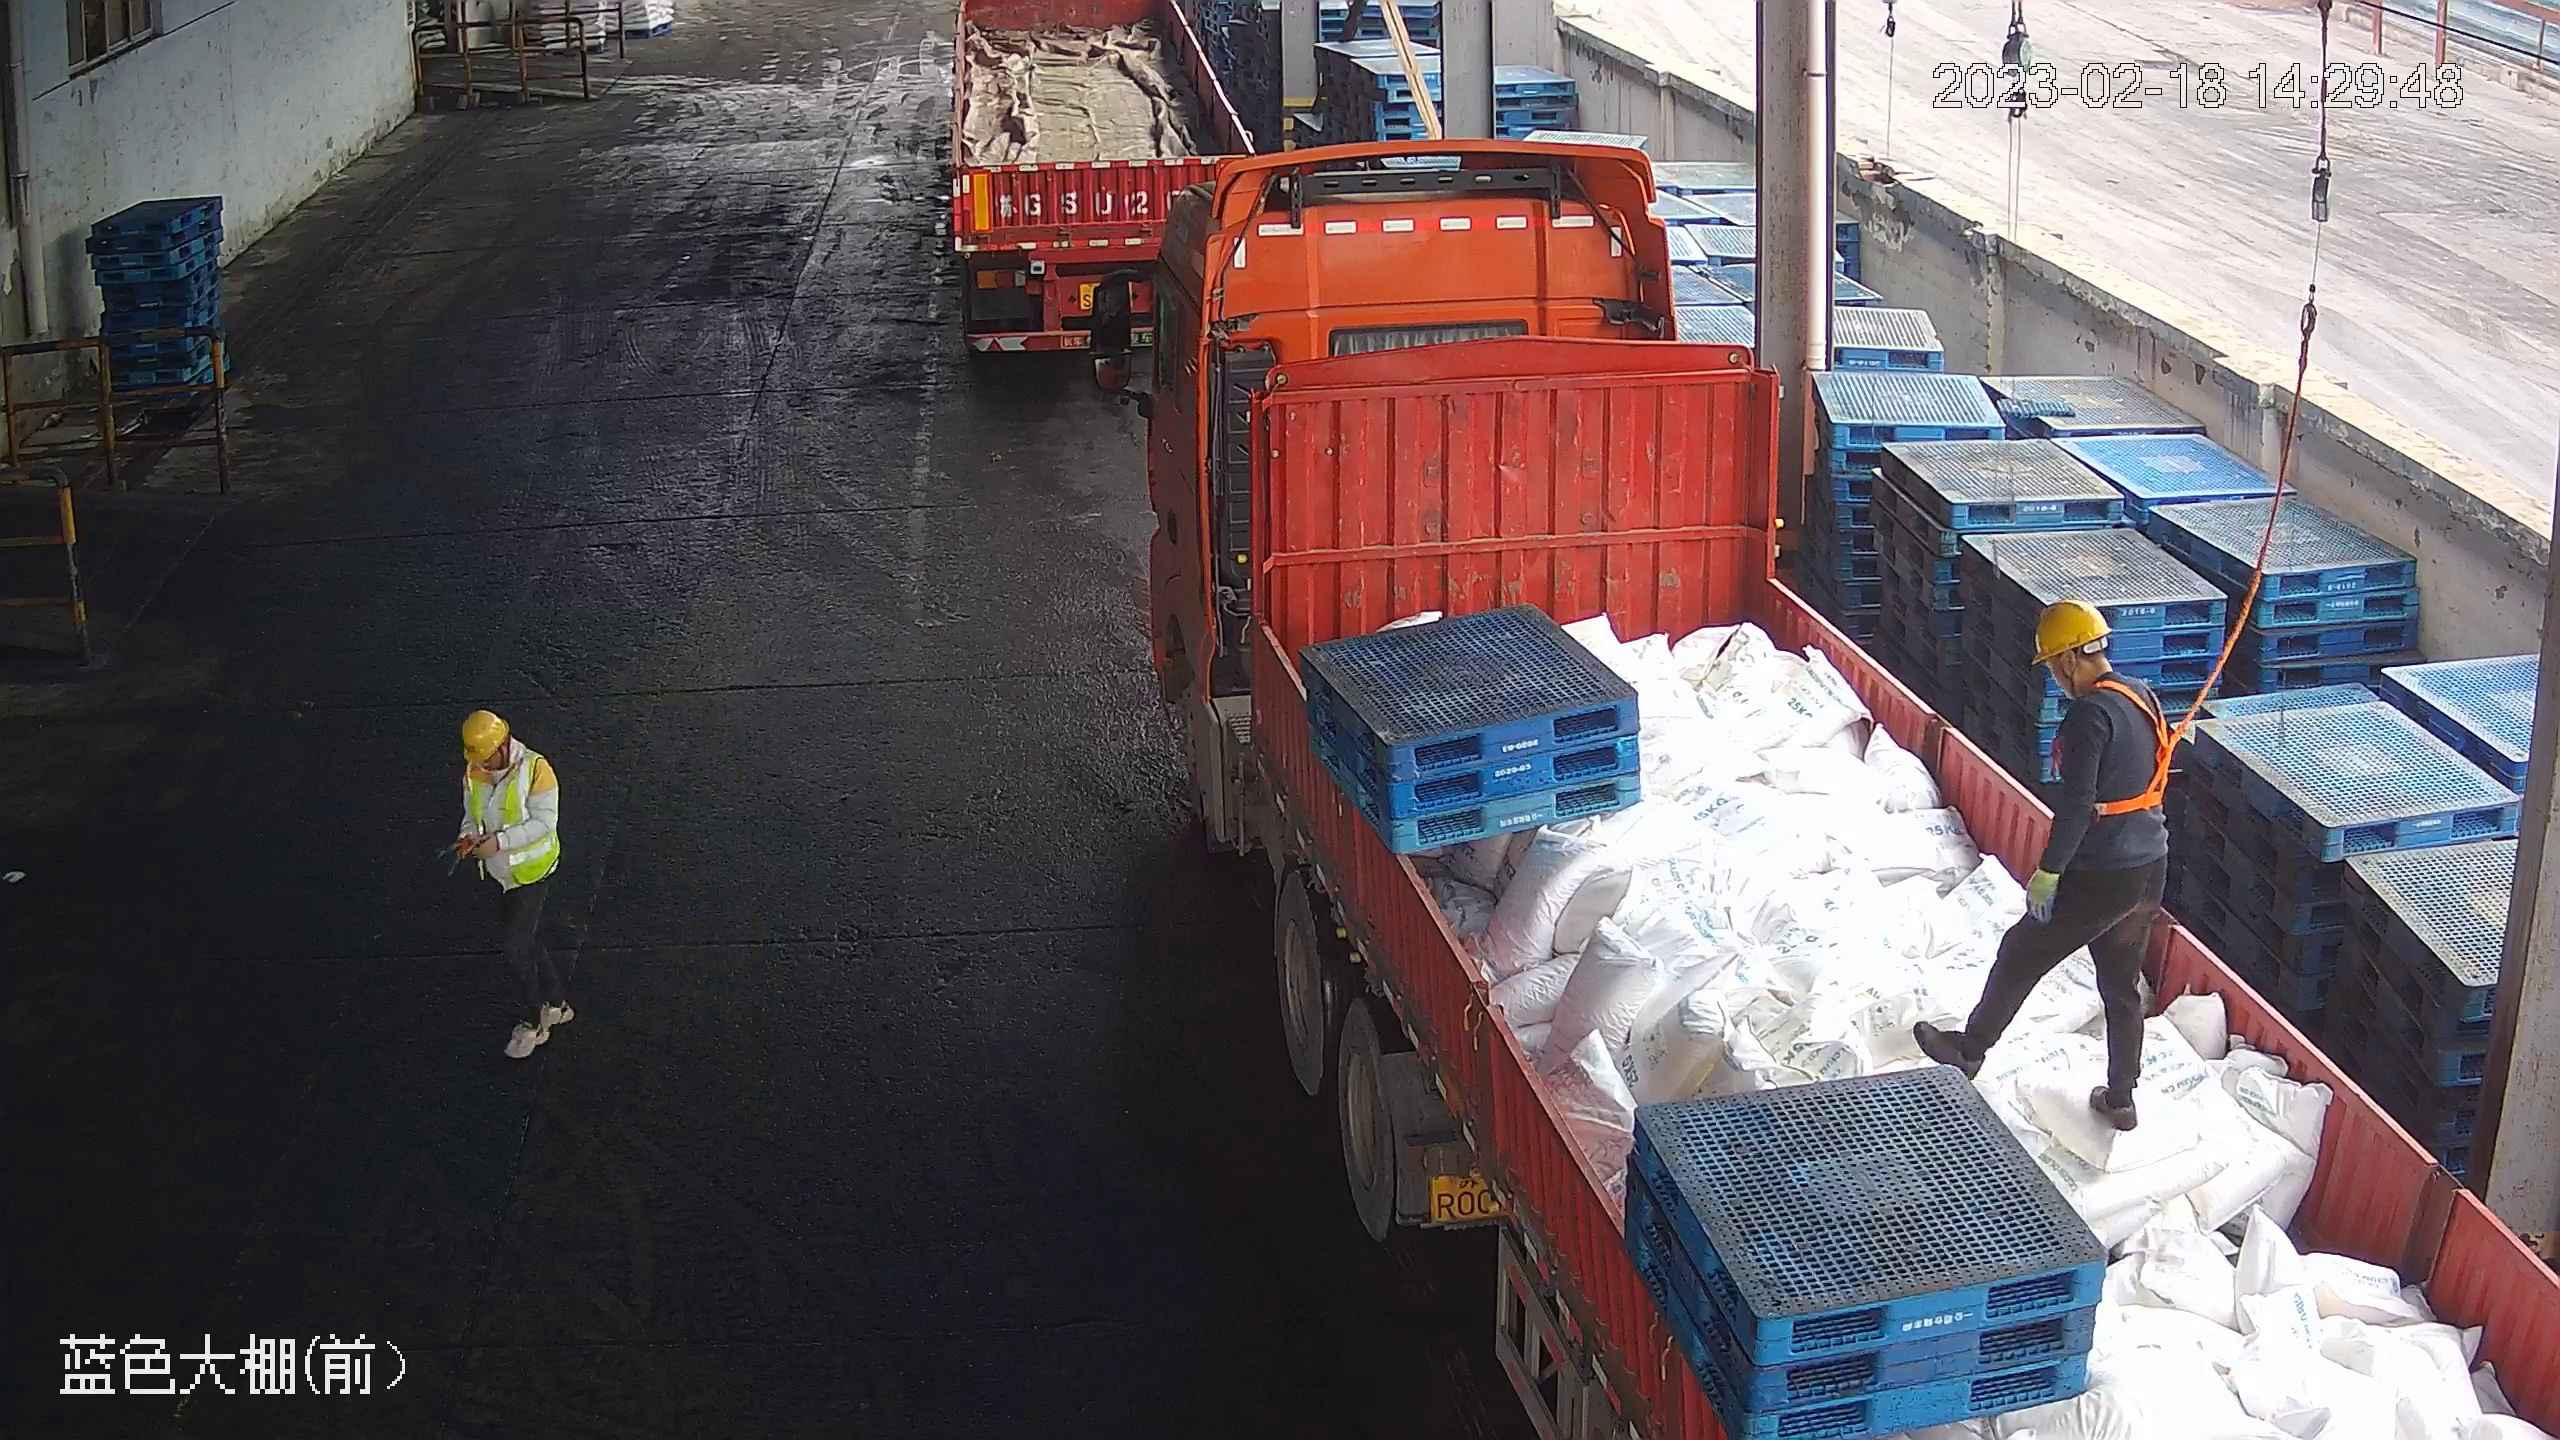belt: (2075, 673, 2188, 822)
head: (2026, 597, 2174, 746), (453, 706, 564, 832)
helmet: (2029, 597, 2113, 670), (461, 708, 506, 755)
people: (1918, 593, 2180, 1132), (444, 704, 581, 1063)
truck: (1084, 153, 2554, 1440), (942, 6, 1279, 382)
